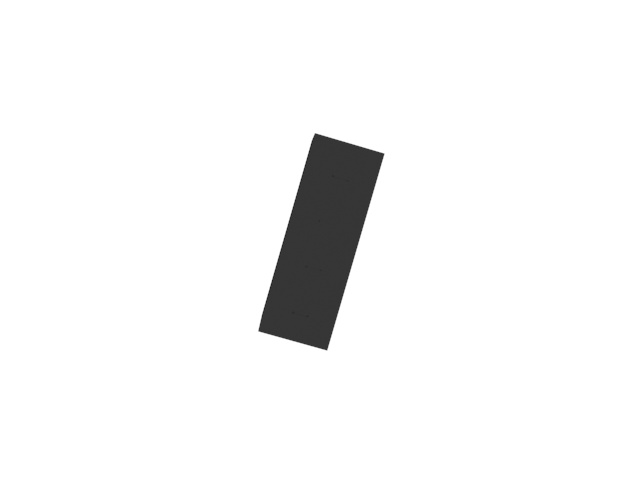file_cabinet: (257, 129, 392, 352)
